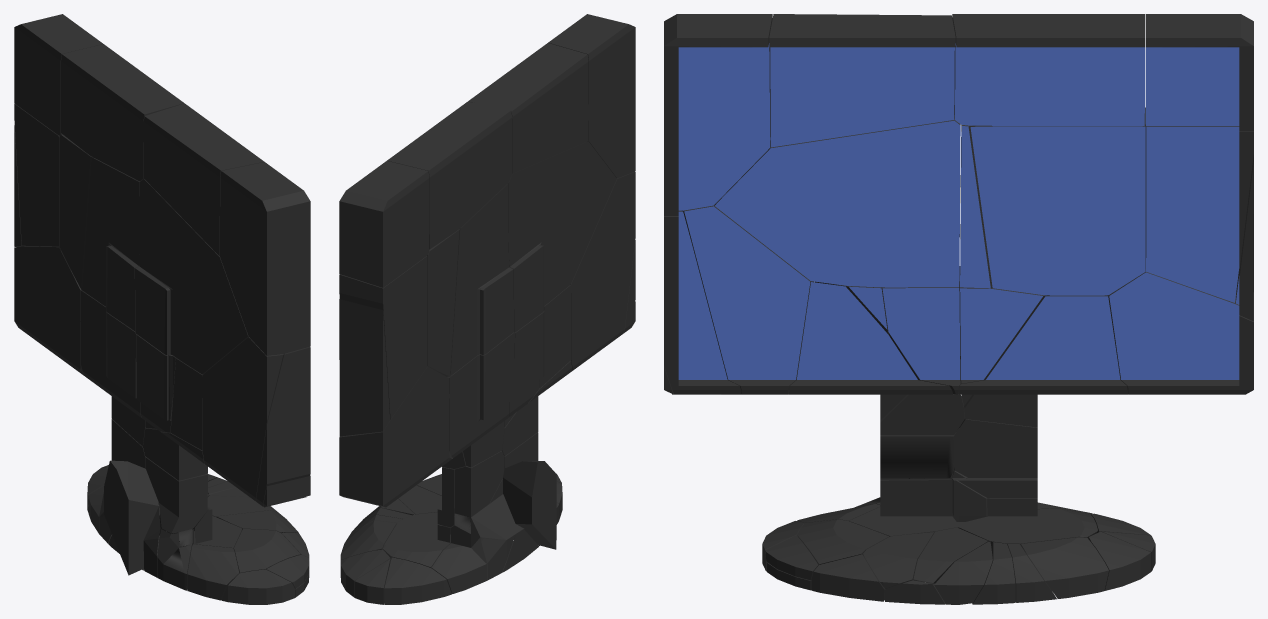
Rendered from monitor_kaputt.glb.
The picture shows the model from 3 angles, left to right: view 1: azimuth 30°, elevation 25°; view 2: azimuth 150°, elevation 25°; view 3: azimuth 270°, elevation 25°; orthographic projection. The views are drawn at different scales.
Parts seen in each view (by area): view 1: Cube_cell.007, Cube_cell.036, Cube_cell.028, Cube_cell.045, Cube_cell.013, Cube_cell.021, Cube_cell.003, Cube_cell.015, Cube_cell.027, Cube_cell.006, Cube_cell.005, Cube_cell.029 (+19 smaller); view 2: Cube_cell.036, Cube_cell.028, Cube_cell.015, Cube_cell.003, Cube_cell.045, Cube_cell.021, Cube_cell.013, Cube_cell.007, Cube_cell.005, Cube_cell.027, Cube_cell.044, Cube_cell.029 (+18 smaller); view 3: Cube_cell.036, Cube_cell.017, Cube_cell.045, Cube_cell.028, Cube_cell.007, Cube_cell.005, Cube_cell.013, Cube_cell.003, Cube_cell.014, Cube_cell.015, Cube_cell.011, Cube_cell.006 (+22 smaller).
Boxes of the visible parts, bbox=[...] form: Cube_cell.007: bbox=[220, 162, 310, 355]; Cube_cell.036: bbox=[135, 179, 248, 374]; Cube_cell.028: bbox=[61, 44, 184, 181]; Cube_cell.045: bbox=[143, 103, 264, 256]; Cube_cell.013: bbox=[202, 337, 284, 501]; Cube_cell.021: bbox=[82, 157, 139, 330]; Cube_cell.003: bbox=[14, 246, 81, 372]; Cube_cell.015: bbox=[14, 14, 102, 135]; Cube_cell.027: bbox=[80, 290, 145, 446]; Cube_cell.006: bbox=[256, 346, 310, 506]; Cube_cell.005: bbox=[14, 103, 59, 247]; Cube_cell.029: bbox=[99, 460, 166, 575]; Cube_cell.036: bbox=[508, 141, 616, 332]; Cube_cell.028: bbox=[387, 101, 512, 249]; Cube_cell.015: bbox=[339, 161, 429, 287]; Cube_cell.003: bbox=[339, 366, 449, 507]; Cube_cell.045: bbox=[468, 43, 588, 173]; Cube_cell.021: bbox=[450, 183, 513, 375]; Cube_cell.013: bbox=[570, 171, 635, 370]; Cube_cell.007: bbox=[548, 14, 635, 178]; Cube_cell.005: bbox=[339, 256, 427, 419]; Cube_cell.027: bbox=[447, 332, 514, 467]; Cube_cell.044: bbox=[339, 299, 390, 436]; Cube_cell.029: bbox=[471, 461, 556, 563]; Cube_cell.036: bbox=[714, 115, 960, 287]; Cube_cell.017: bbox=[970, 107, 1146, 295]; Cube_cell.045: bbox=[769, 14, 955, 147]; Cube_cell.028: bbox=[952, 14, 1144, 125]; Cube_cell.007: bbox=[664, 14, 772, 215]; Cube_cell.005: bbox=[1146, 126, 1253, 302]; Cube_cell.013: bbox=[682, 205, 814, 394]; Cube_cell.003: bbox=[1107, 269, 1253, 394]; Cube_cell.014: bbox=[959, 295, 1127, 427]; Cube_cell.015: bbox=[1145, 14, 1253, 131]; Cube_cell.011: bbox=[789, 282, 953, 419]; Cube_cell.006: bbox=[664, 210, 741, 394].
Bounding box in the file's own units: 0.5505 × 1.45 × 1.5.
